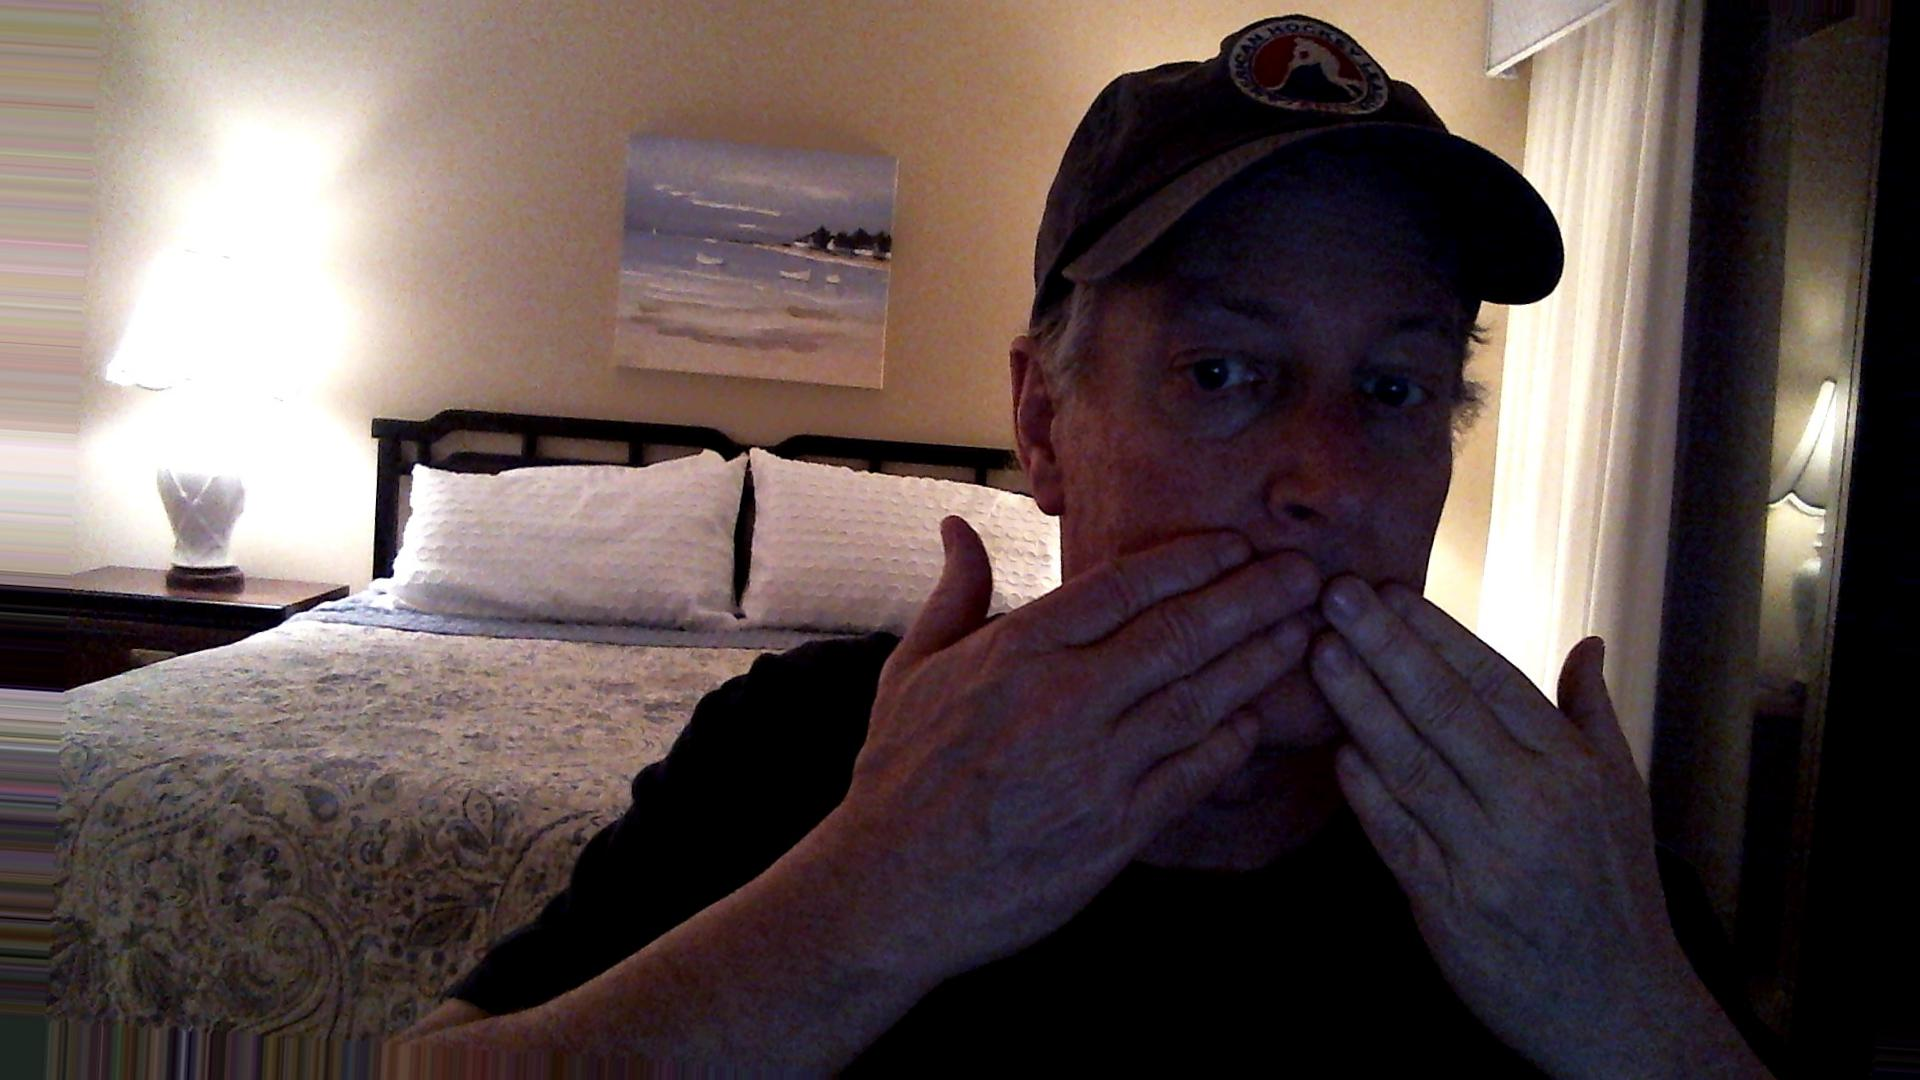Thank You: (855, 484, 1691, 1006)
